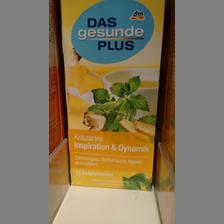Tee: (60, 0, 164, 192)
